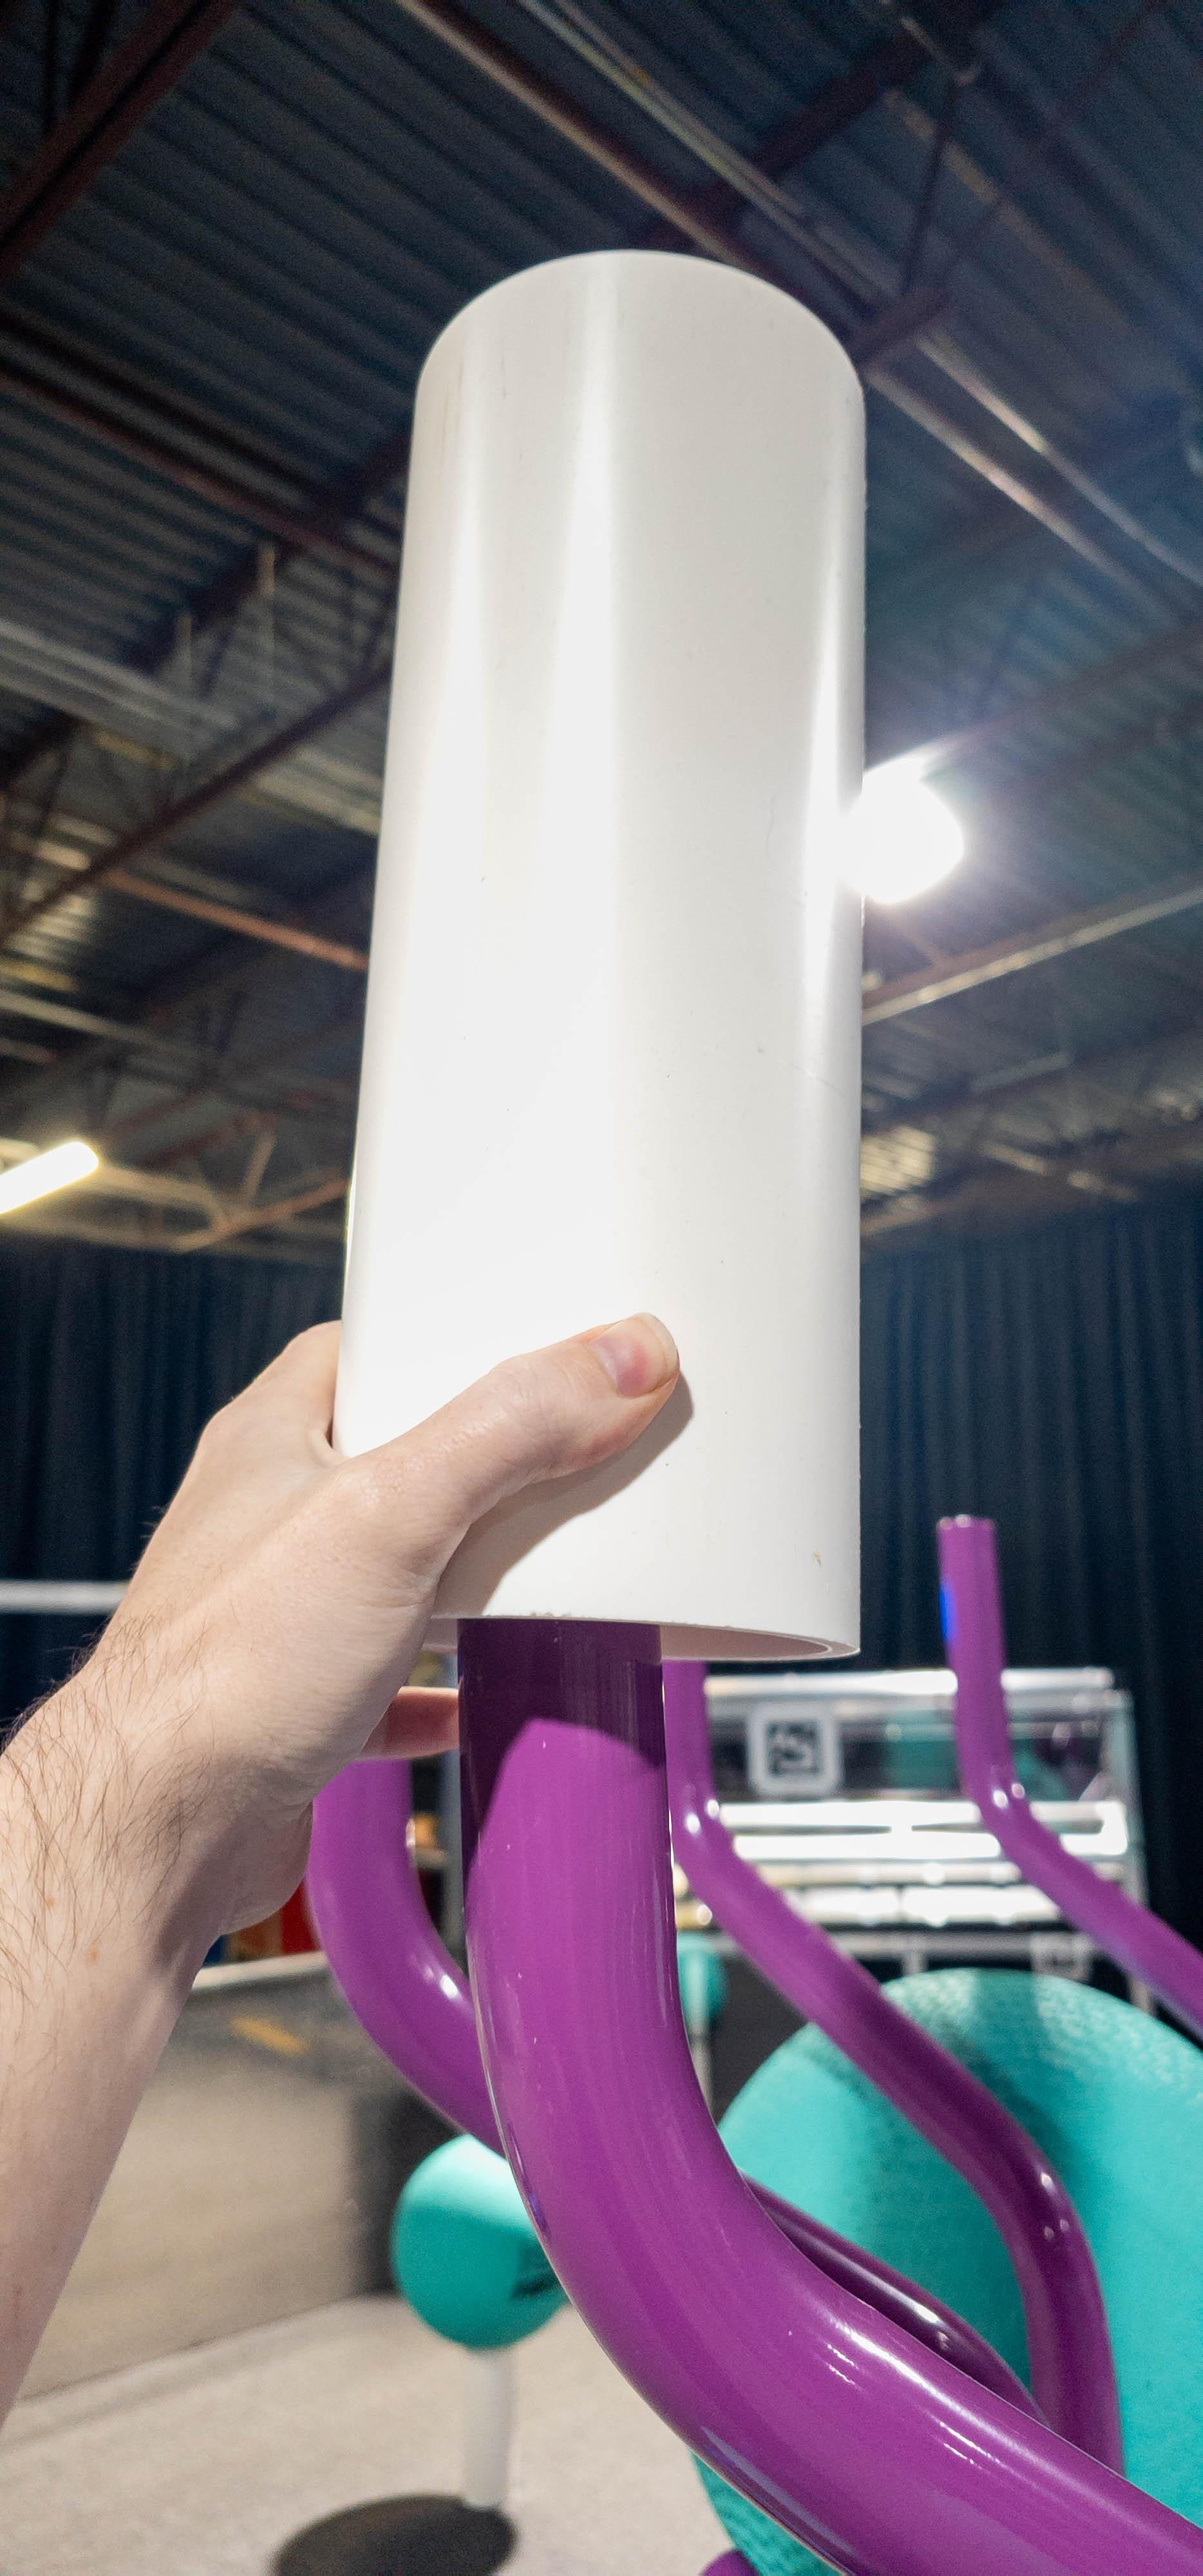ALGAE: (685, 1971, 1203, 2576), (389, 2134, 567, 2348)
CORAL: (329, 251, 869, 1664), (437, 2341, 514, 2518)
